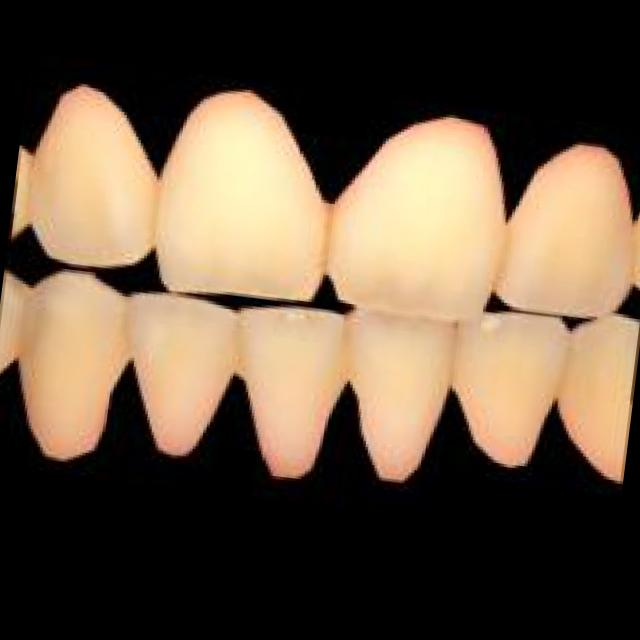1: (320, 102, 528, 326), (157, 70, 348, 306), (20, 61, 168, 272), (0, 261, 138, 467), (491, 130, 640, 320), (430, 304, 576, 473), (332, 306, 463, 488), (232, 298, 353, 482), (112, 294, 244, 461), (557, 308, 640, 483)
karies: (488, 221, 522, 289), (310, 199, 346, 262), (137, 178, 170, 246), (333, 314, 364, 382)
